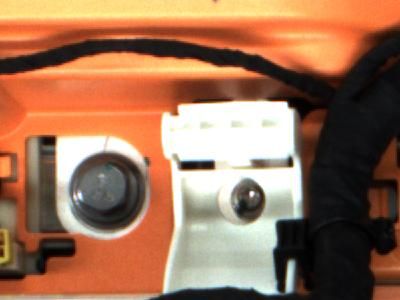nut_b: (63, 149, 151, 231)
